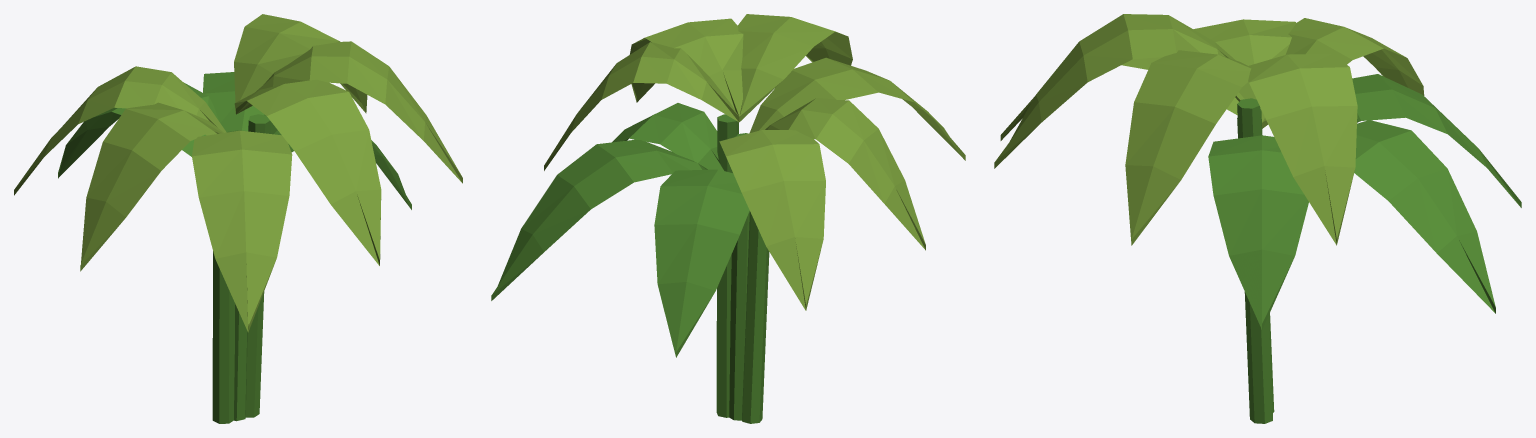
Rendered from bananaPlant.glb.
3 renders of one model, left to right at view 1: azimuth 30°, elevation 25°; view 2: azimuth 150°, elevation 25°; view 3: azimuth 270°, elevation 25°, orthographic. The views are drawn at different scales.
Visible parts, largest first — view 1: BananaPlantMesh; view 2: BananaPlantMesh; view 3: BananaPlantMesh.
Part boxes in pixels (<box>): BananaPlantMesh: <box>14,14,462,423</box>; BananaPlantMesh: <box>491,14,965,423</box>; BananaPlantMesh: <box>994,14,1521,423</box>.
Bounding box in the file's own units: 3.37 × 3.34 × 4.12.
